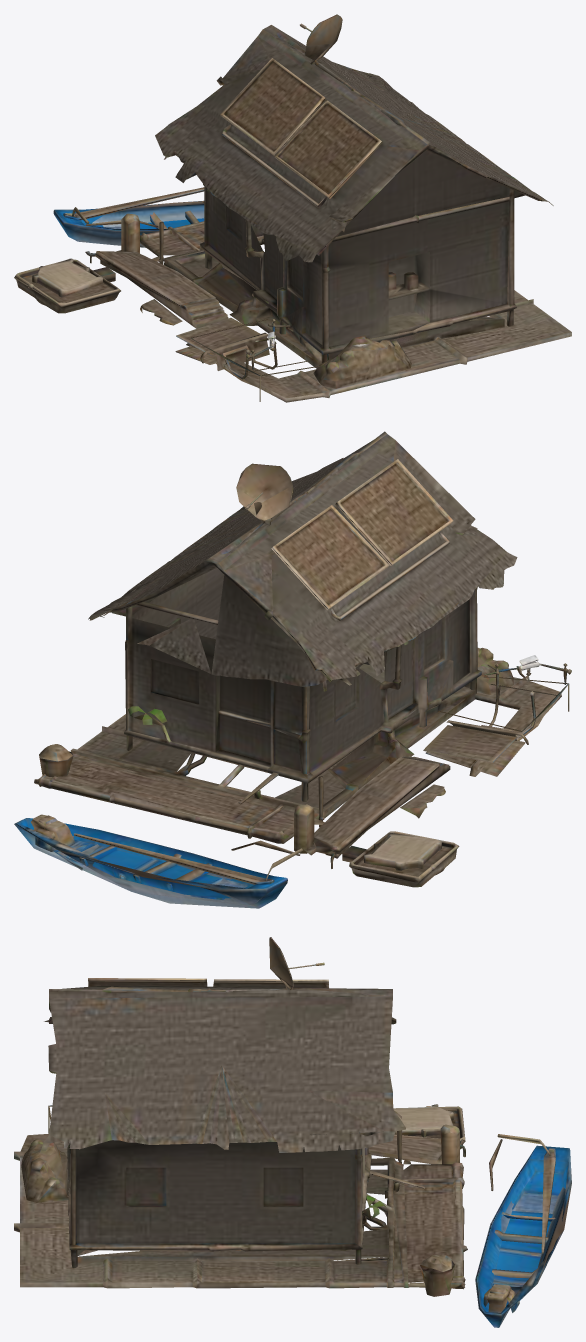
File: tonle_floating_house.glb
3 renders of one model, top to bottom at view 1: azimuth 30°, elevation 25°; view 2: azimuth 150°, elevation 25°; view 3: azimuth 270°, elevation 25°, orthographic. The views are drawn at different scales.
Parts seen in each view (by area): view 1: Body; view 2: Body; view 3: Body.
Boxes of the visible parts, box(x1,y1,x2,y2) form: Body: box(14, 14, 571, 402); Body: box(14, 431, 571, 908); Body: box(14, 937, 571, 1327).
Bounding box in the file's own units: 7.95 × 6.56 × 9.96.
1 material, 1 textured.
